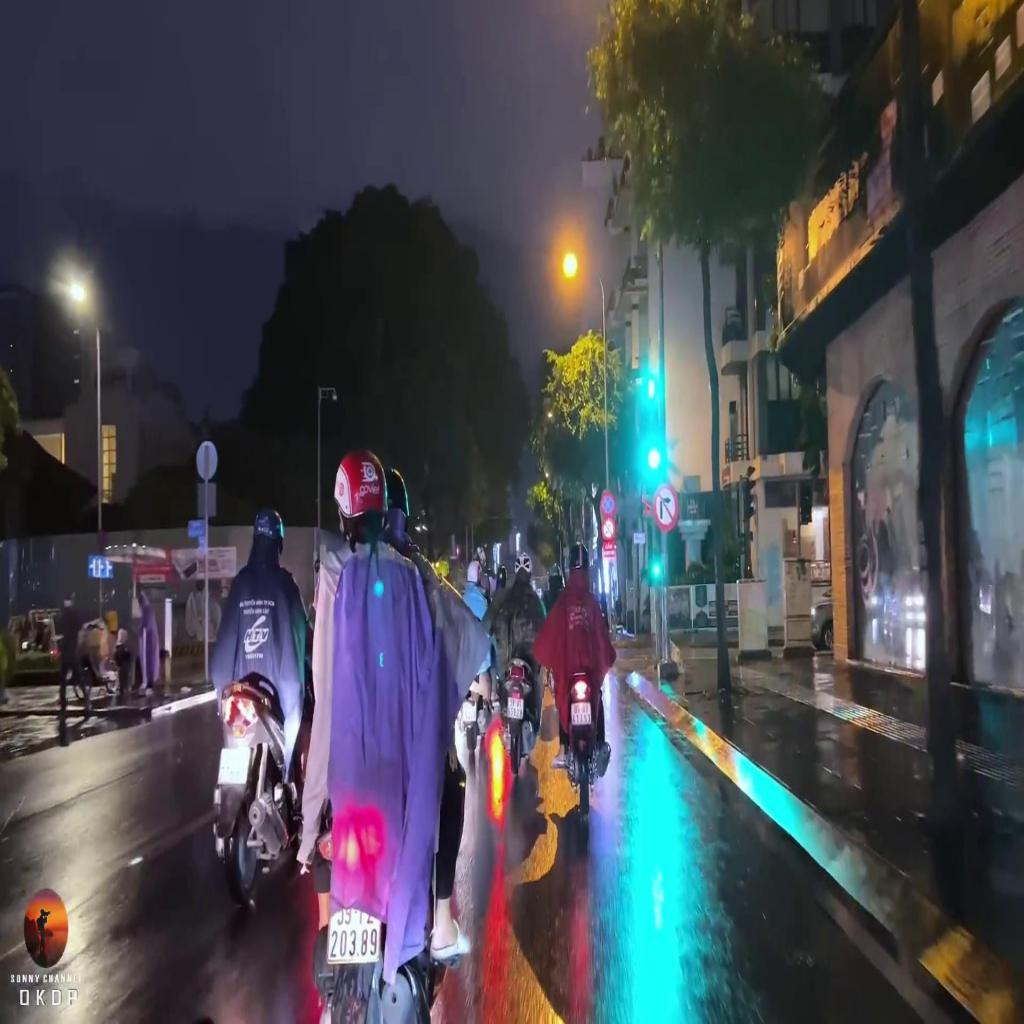cam_cac_loai_xe_3_banh: (601, 518, 616, 542)
cam_dung_xe_va_do_xe: (599, 489, 616, 518)
cam_re_phai: (652, 480, 680, 534)
huong_di_tren_moi_lan_duong_theo_vach_ke_duong: (88, 556, 114, 578)
khac: (603, 542, 617, 558)
